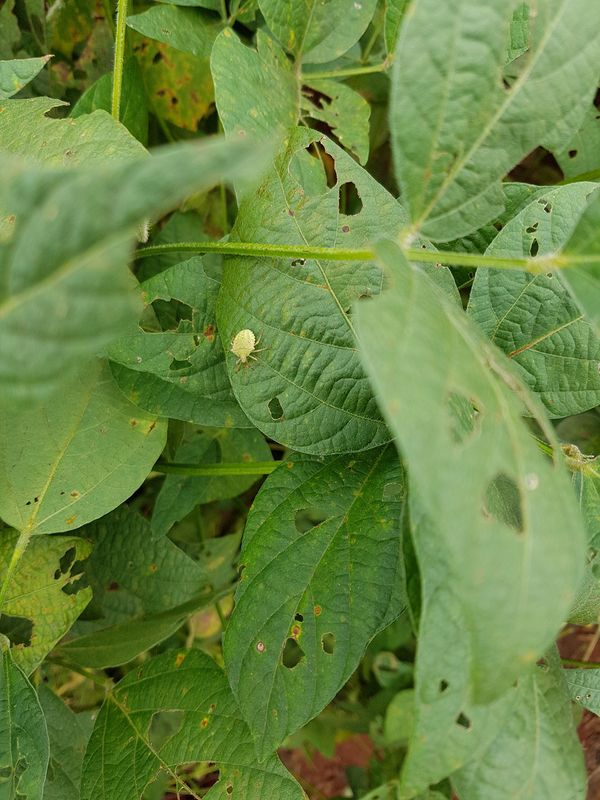Euschistus_heros_ninfa: (223, 325, 270, 372)
